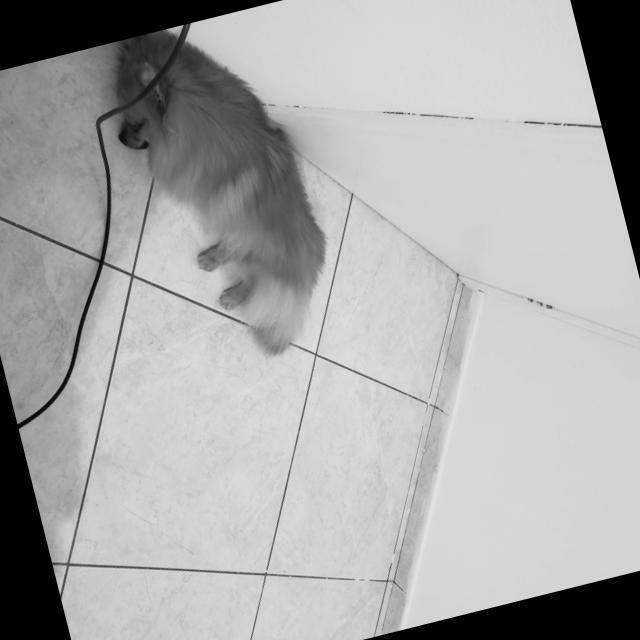laying down: (87, 2, 356, 384)
